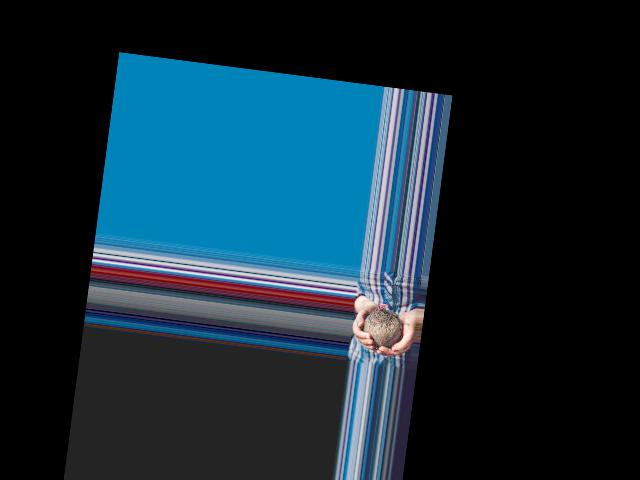beet: (361, 300, 405, 349)
